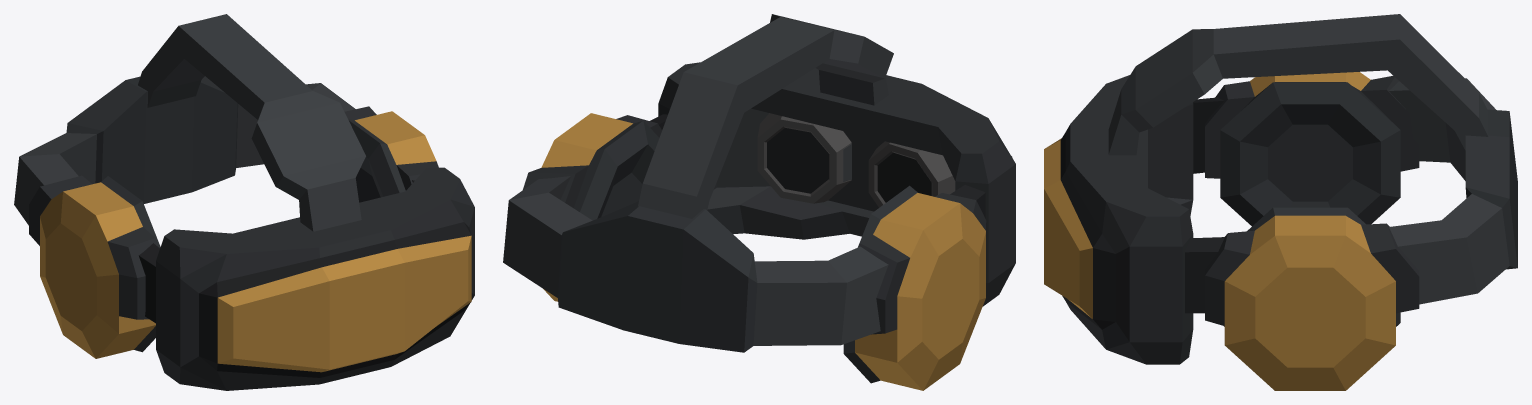
File: SM_Prop_VR_Headset_03.fbx
3 renders of one model, left to right at view 1: azimuth 30°, elevation 25°; view 2: azimuth 150°, elevation 25°; view 3: azimuth 270°, elevation 25°, orthographic. The views are drawn at different scales.
Parts seen in each view (by area): view 1: SM_Prop_VR_Headset_03; view 2: SM_Prop_VR_Headset_03; view 3: SM_Prop_VR_Headset_03.
Boxes of the visible parts, x1,y1,x2,y2 form: SM_Prop_VR_Headset_03: (14,14,474,390); SM_Prop_VR_Headset_03: (503,14,1015,390); SM_Prop_VR_Headset_03: (1044,14,1517,390).
Bounding box in the file's own units: 28.4 × 20.46 × 31.2.
